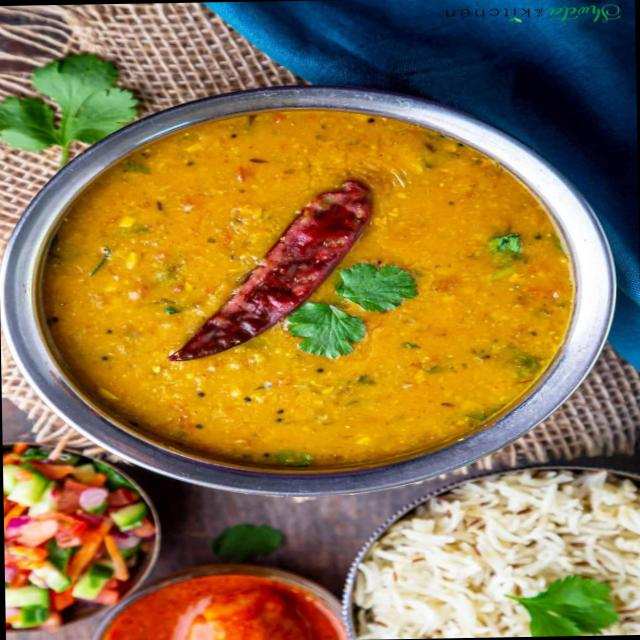dal: (45, 111, 563, 462)
rice: (357, 474, 640, 639)
